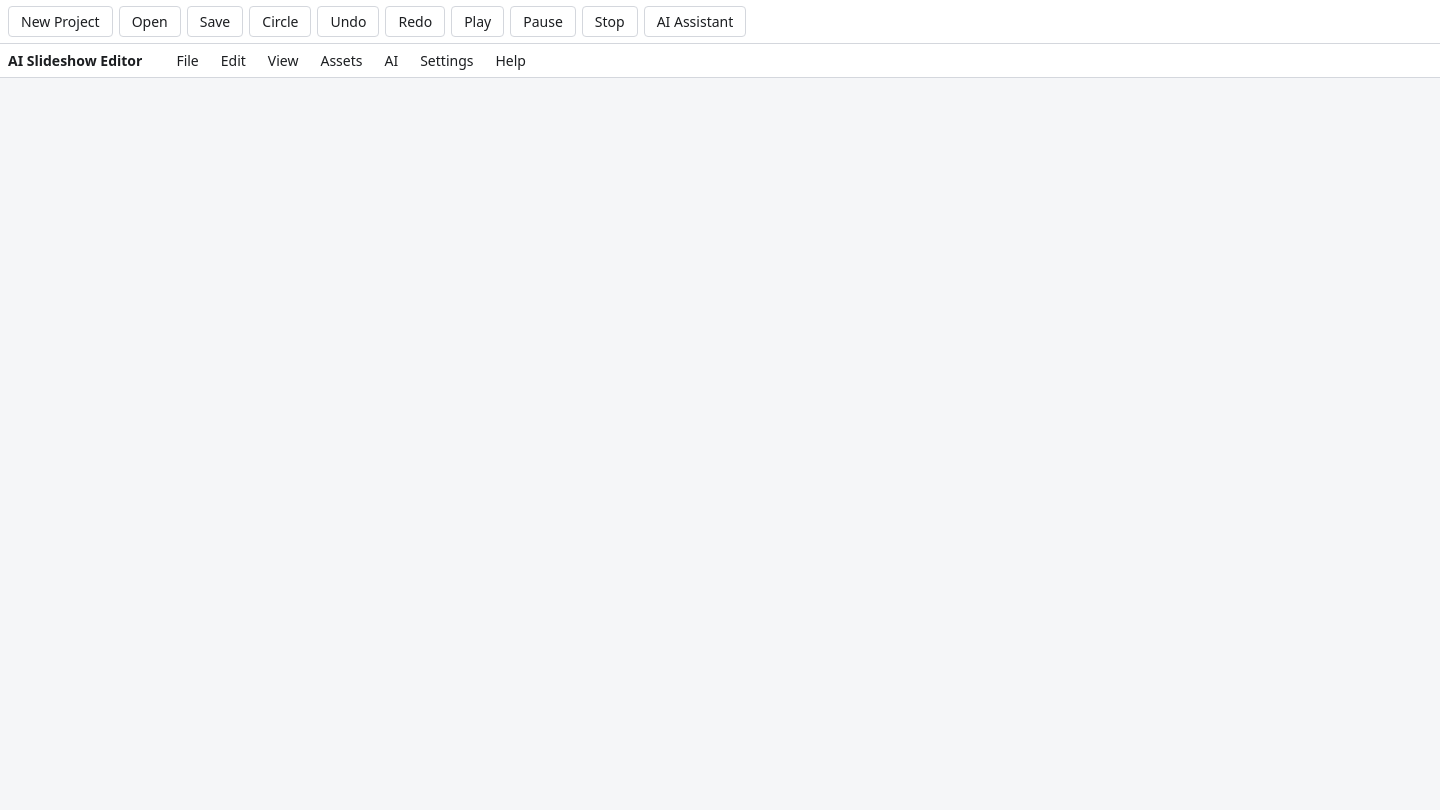
Scenario: ProjectsDialog › opens from the toolbar Open button and lists the library by name and last modified
Step 1. Click the button "Open" → (150, 22), box [119, 6, 181, 37]
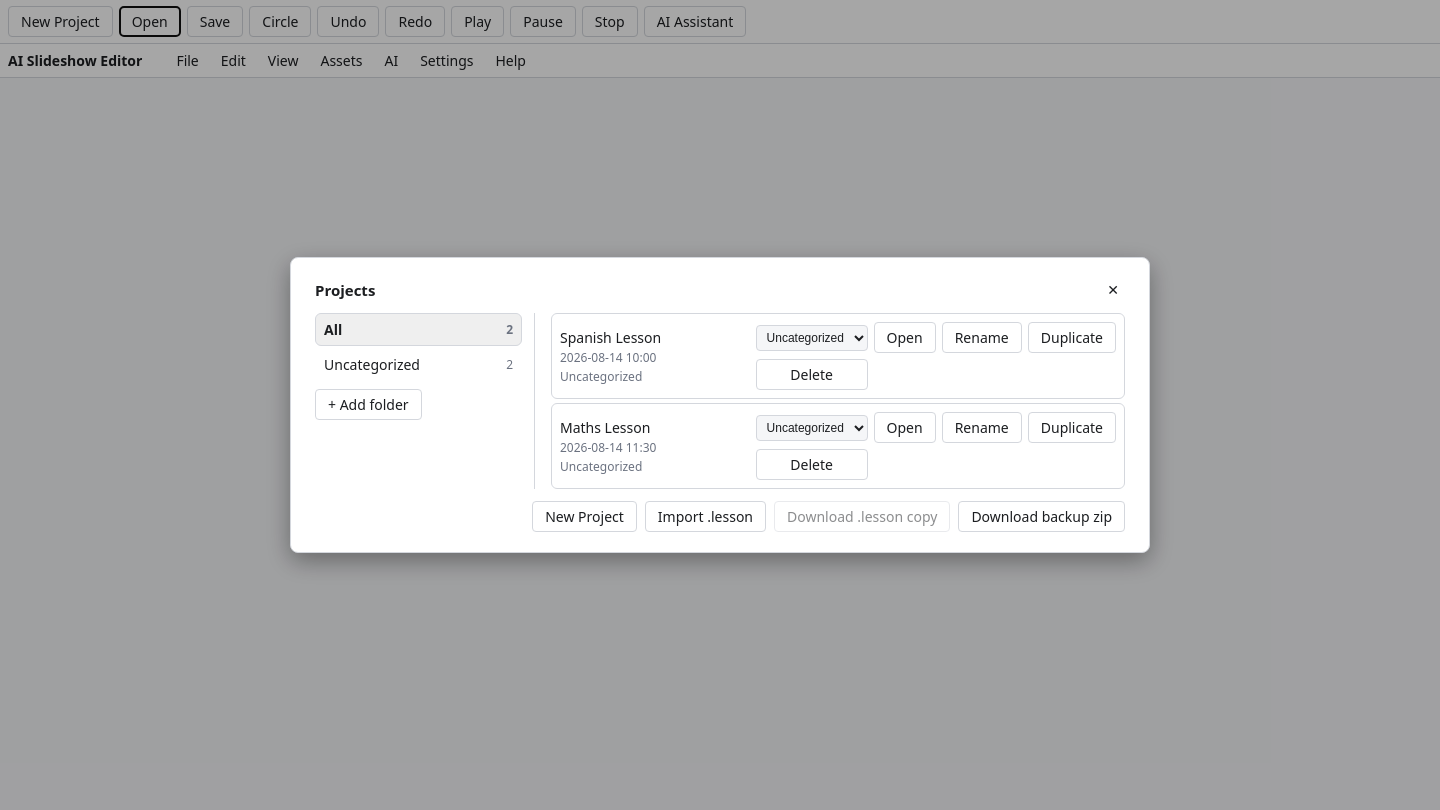
Now the text "Spanish Lesson" is shown, box [560, 328, 661, 346]
Now the text "Maths Lesson" is shown, box [560, 418, 650, 436]
Now the text "2026-08-14 10:00" is shown, box [560, 348, 656, 366]
